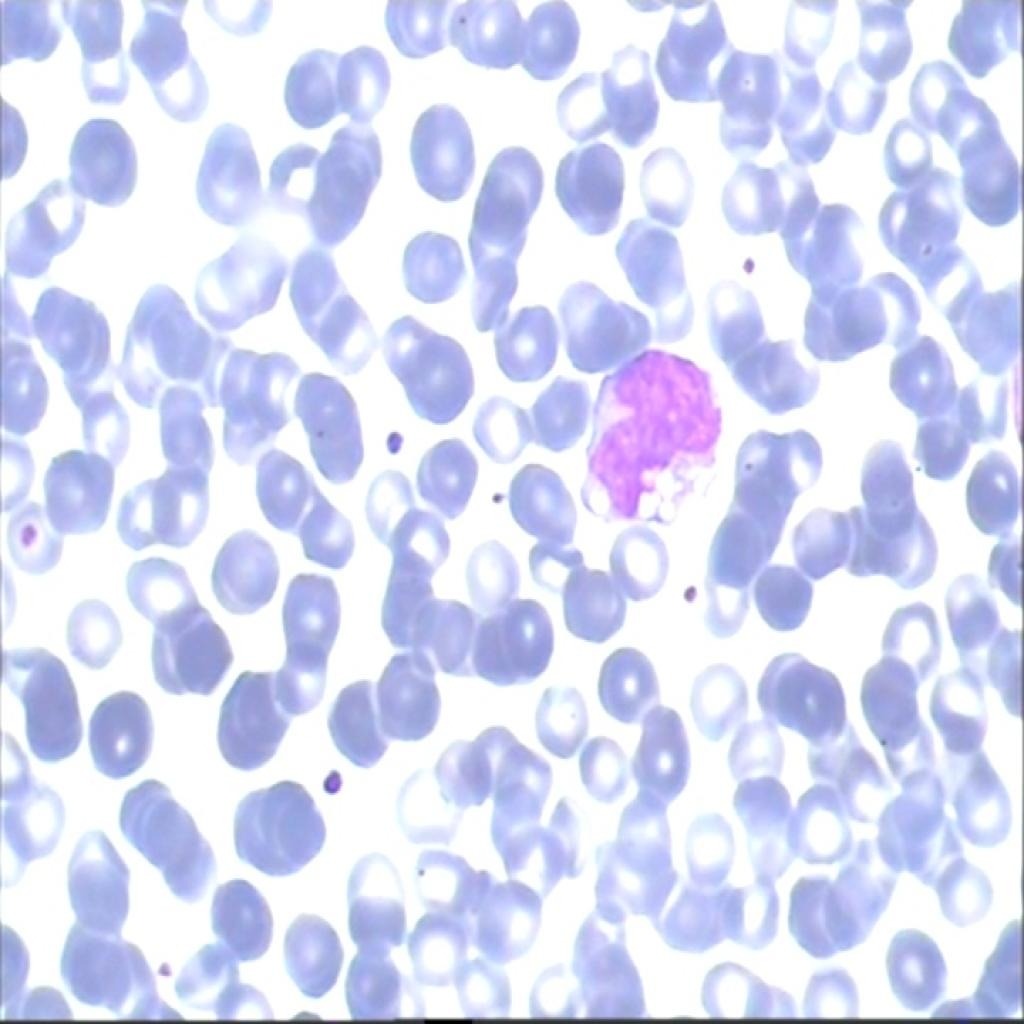Monosit: (562, 330, 727, 538)
Platelet: (308, 740, 350, 810), (481, 470, 509, 518), (149, 942, 178, 987), (674, 571, 701, 617), (11, 510, 40, 551), (734, 247, 768, 281), (383, 421, 411, 455)
